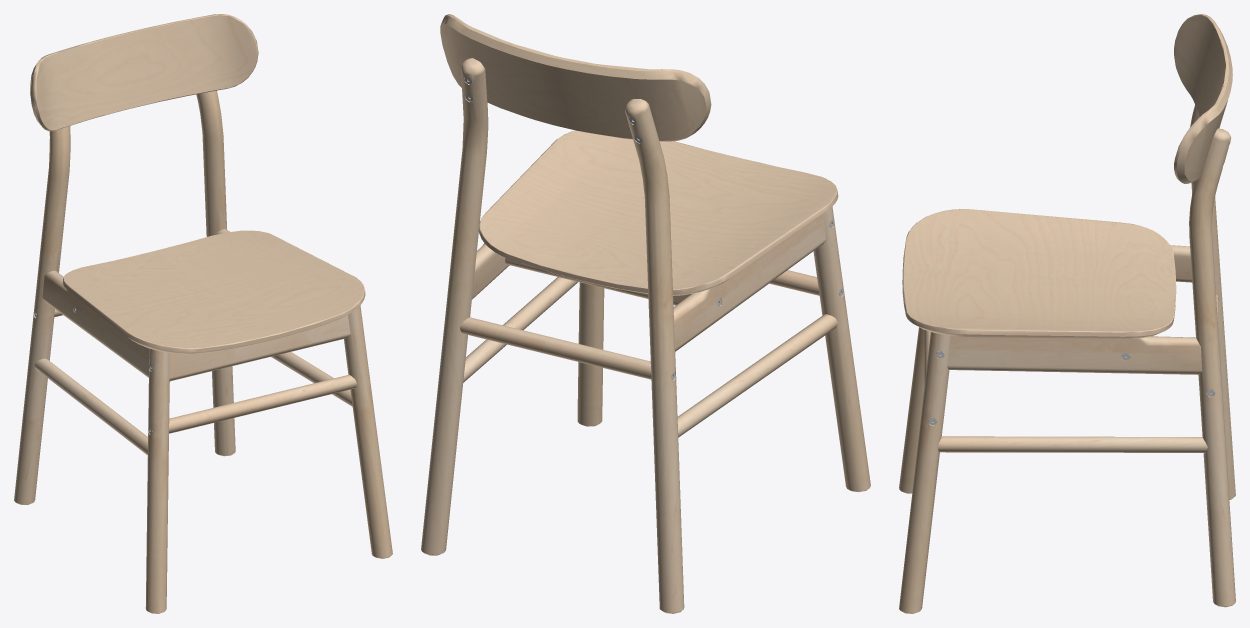
File: 43 - RÖNNINGE Chair - birch.glb
The picture shows the model from 3 angles, left to right: view 1: azimuth 30°, elevation 25°; view 2: azimuth 150°, elevation 25°; view 3: azimuth 270°, elevation 25°; orthographic projection. The views are drawn at different scales.
Visible parts, largest first — view 1: Mesh_0; view 2: Mesh_0; view 3: Mesh_0.
Part boxes in pixels (x1,y1,x2,y2): Mesh_0: [14, 14, 392, 613]; Mesh_0: [421, 14, 870, 613]; Mesh_0: [899, 14, 1235, 613].
Bounding box in the file's own units: 0.4576 × 0.7996 × 0.5023.
1 material, 1 textured.
